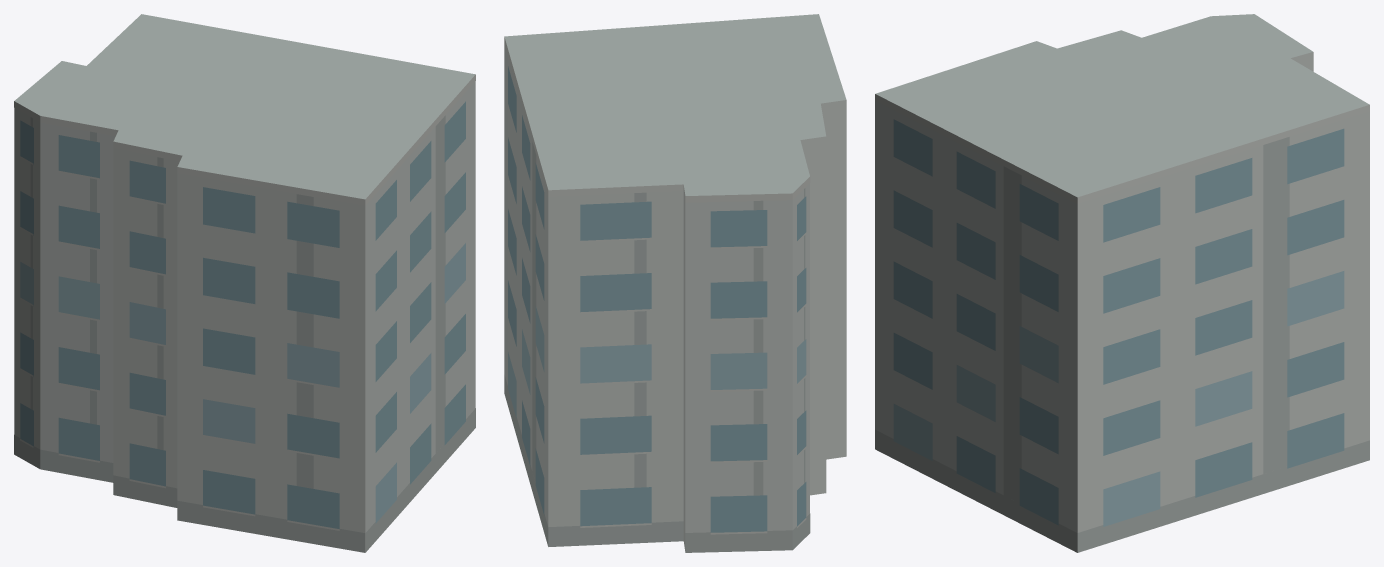
File: survey-upis-32997797.glb
The picture shows the model from 3 angles, left to right: view 1: azimuth 30°, elevation 25°; view 2: azimuth 150°, elevation 25°; view 3: azimuth 270°, elevation 25°; orthographic projection.
Parts seen in each view (by area): view 1: survey-upis-32997797.tmp; view 2: survey-upis-32997797.tmp; view 3: survey-upis-32997797.tmp.
Boxes of the visible parts, x1=… form: survey-upis-32997797.tmp: x1=14, y1=14, x2=475, y2=552; survey-upis-32997797.tmp: x1=504, y1=14, x2=846, y2=552; survey-upis-32997797.tmp: x1=875, y1=14, x2=1369, y2=552.
Bounding box in the file's own units: 14.61 × 13.2 × 16.66.
